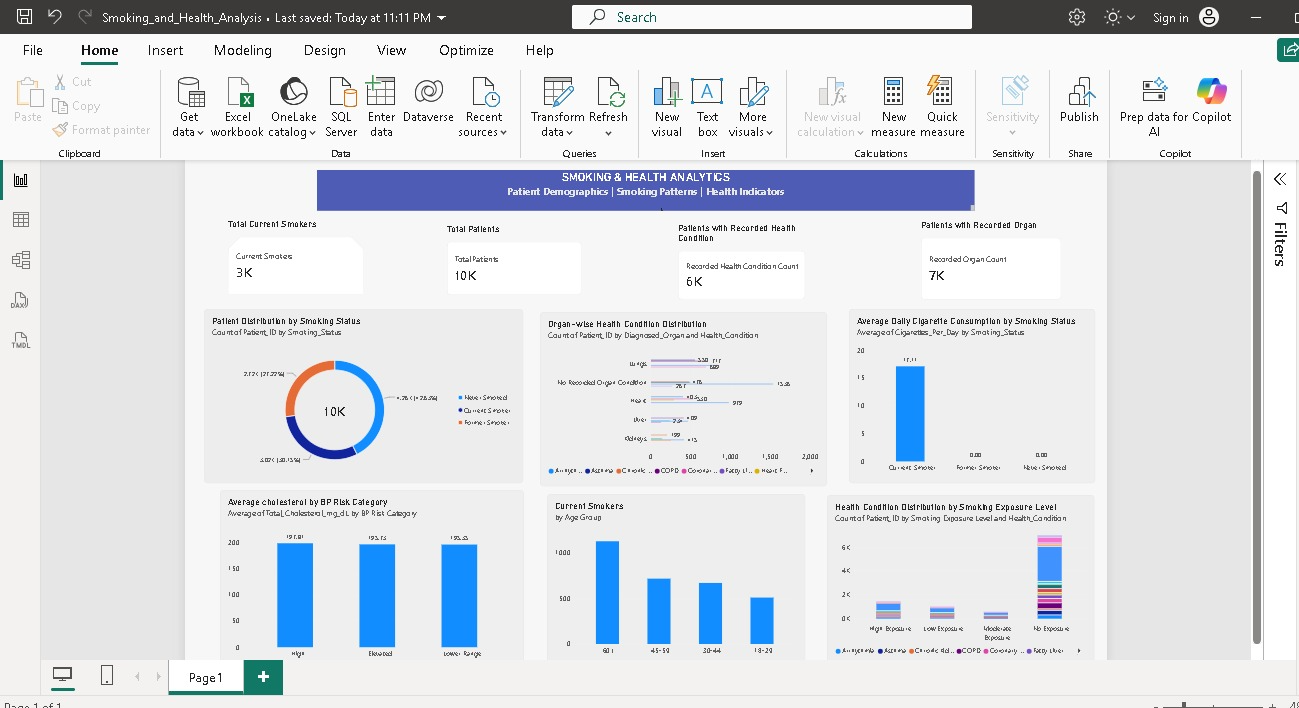

The dashboard page shown, as its layout file describes it:
{"tool":"powerbi","page":{"name":"Page 1","canvas":[1920,1080],"ordinal":0},"visuals":[{"type":"cardVisual","title":"Total Patients","fields":{"Data":["Smoking_Health_Analysis.Total Patients"]},"box":[546.7,136.7,280,148.6],"z":0},{"type":"cardVisual","title":"Total Current Smokers","fields":{"Data":["Smoking_Health_Analysis.Current Smokers"]},"box":[90,127.5,282.5,157.5],"z":1000},{"type":"donutChart","title":"Patient Distribution by Smoking Status","fields":{"Category":["Smoking_Health_Analysis.Smoking_Status"],"Y":["CountNonNull(Smoking_Health_Analysis.Patient_ID)"]},"box":[40,315,665,362.5],"z":2000},{"type":"clusteredBarChart","title":"Organ-wise Health Condition Distribution","fields":{"Category":["Smoking_Health_Analysis.Diagnosed_Organ"],"Series":["Smoking_Health_Analysis.Health_Condition"],"Y":["CountNonNull(Smoking_Health_Analysis.Patient_ID)"]},"box":[740,320,597.5,362.5],"z":3000},{"type":"clusteredColumnChart","title":"Average Daily Cigarette Consumption by Smoking Status","fields":{"Category":["Smoking_Health_Analysis.Smoking_Status"],"Y":["Avg(Smoking_Health_Analysis.Cigarettes_Per_Day)"]},"box":[1382.5,315,512.5,362.5],"z":4000},{"type":"clusteredColumnChart","title":"Average cholesterol by BP Risk Category","fields":{"Category":["Smoking_Health_Analysis.BP Risk Category"],"Y":["Avg(Smoking_Health_Analysis.Total_Cholesterol_mg_dL)"]},"box":[72.5,692.5,632.5,372.5],"z":5000},{"type":"clusteredColumnChart","fields":{"Category":["Smoking_Health_Analysis.Age Group"],"Y":["Smoking_Health_Analysis.Current Smokers"]},"box":[755,700,537.5,357.5],"z":6000},{"type":"lineStackedColumnComboChart","title":"Health Condition Distribution by Smoking Exposure Level","fields":{"Category":["Smoking_Health_Analysis.Smoking Exposure Level"],"Series":["Smoking_Health_Analysis.Health_Condition"],"Y":["CountNonNull(Smoking_Health_Analysis.Patient_ID)"]},"box":[1337.5,702.5,556.7,356.7],"z":7000},{"type":"textbox","title":"SMOKING & HEALTH ANALYTICS ","box":[275,25,1370,85],"z":10000},{"type":"cardVisual","title":"Patients with Recorded Organ","fields":{"Data":["Smoking_Health_Analysis.Recorded Organ Count"]},"box":[1534,130,292,166],"z":10002},{"type":"cardVisual","title":"Patients with Recorded Health Condition","fields":{"Data":["Smoking_Health_Analysis.Recorded Health Condition Count"]},"box":[1028,136,265,159],"z":10003}]}

Visuals, with their boxes on the page's 1920x1080 design canvas (x1, y1, x2, y2). These are canvas units, not pixel positions in the 1299x708 screenshot, which may show the page scaled, cropped or inside an application window:
"Total Patients" cardVisual: left=547, top=137, right=827, bottom=285
"Total Current Smokers" cardVisual: left=90, top=128, right=372, bottom=285
"Patient Distribution by Smoking Status" donutChart: left=40, top=315, right=705, bottom=678
"Organ-wise Health Condition Distribution" clusteredBarChart: left=740, top=320, right=1338, bottom=682
"Average Daily Cigarette Consumption by Smoking Status" clusteredColumnChart: left=1382, top=315, right=1895, bottom=678
"Average cholesterol by BP Risk Category" clusteredColumnChart: left=72, top=692, right=705, bottom=1065
clusteredColumnChart - Smoking_Health_Analysis.Age Group x Smoking_Health_Analysis.Current Smokers: left=755, top=700, right=1292, bottom=1058
"Health Condition Distribution by Smoking Exposure Level" lineStackedColumnComboChart: left=1338, top=702, right=1894, bottom=1059
"SMOKING & HEALTH ANALYTICS " textbox: left=275, top=25, right=1645, bottom=110
"Patients with Recorded Organ" cardVisual: left=1534, top=130, right=1826, bottom=296
"Patients with Recorded Health Condition" cardVisual: left=1028, top=136, right=1293, bottom=295
